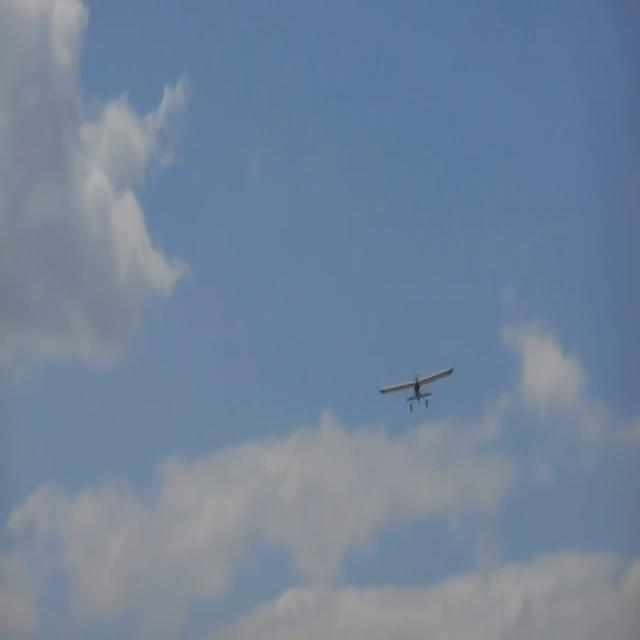iha: (411, 361, 424, 408)
